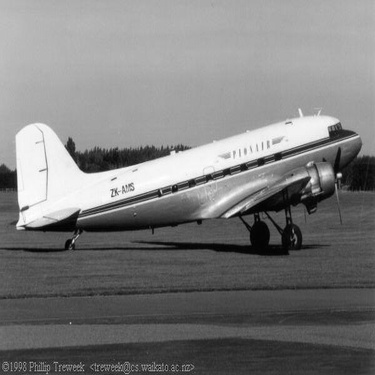airplane: (9, 99, 367, 273)
